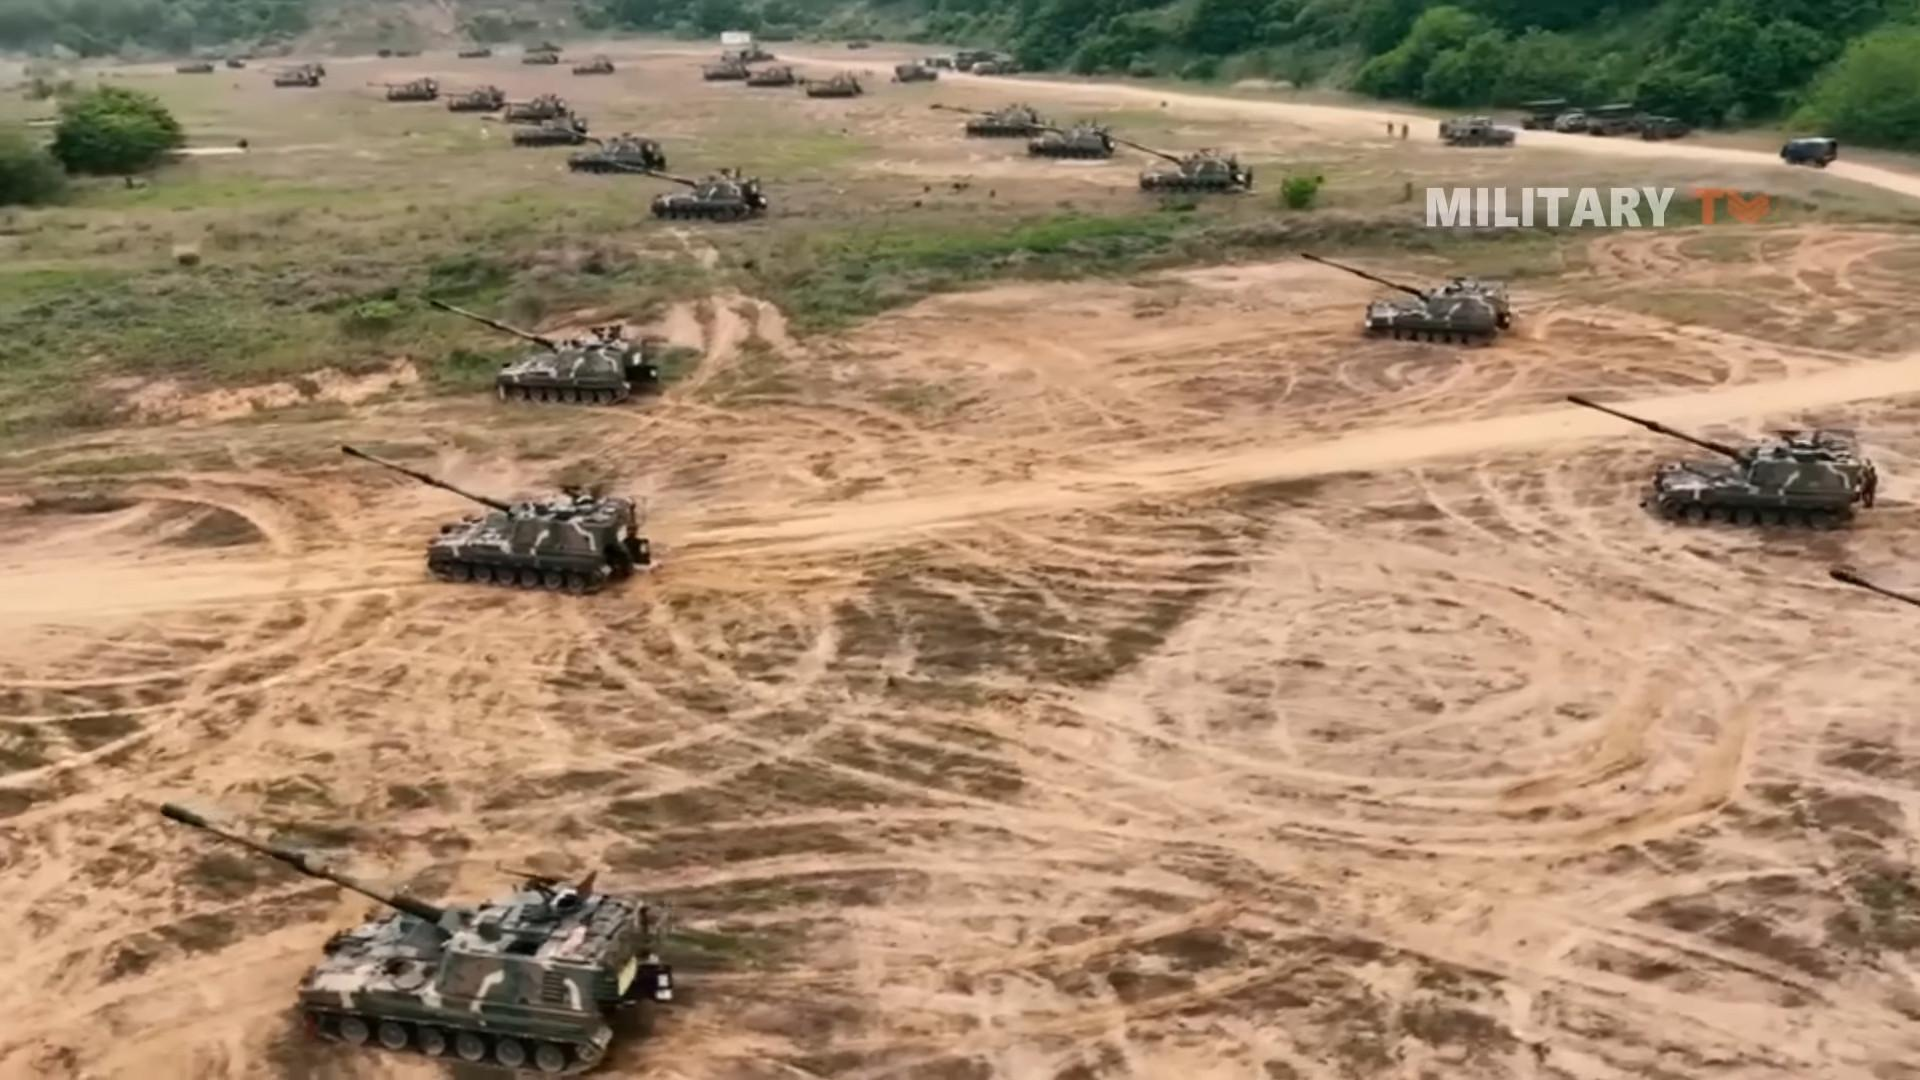tank: (160, 804, 671, 1076), (342, 443, 651, 596), (1565, 393, 1862, 531), (427, 299, 659, 405), (1300, 251, 1513, 348)
